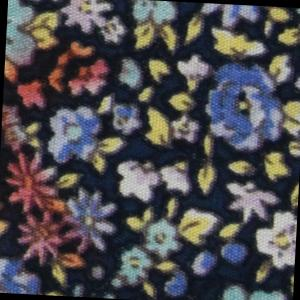Stain: (1, 28, 121, 273)
